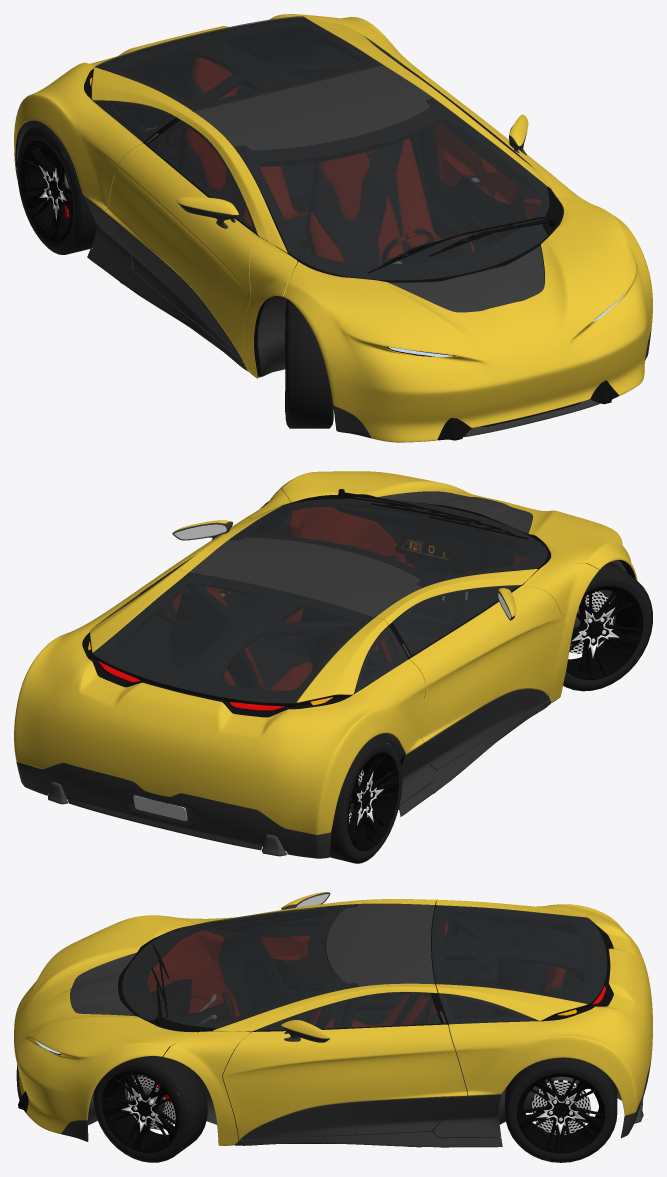
File: strale.glb
The picture shows the model from 3 angles, top to bottom: view 1: azimuth 30°, elevation 25°; view 2: azimuth 150°, elevation 25°; view 3: azimuth 270°, elevation 25°; orthographic projection. The views are drawn at different scales.
Visible parts, largest first — view 1: BodyHood, BodyWindshield, BodyRearwindow, BodyDoorRColor1, BodyRearPanelsColor1, BodyRoofPanel, BodyWindshieldGasket, InteriorSeatsColor1, InteriorSeatsColor2, BodyPillars, InteriorPillar, InteriorRearHatch (+21 smaller); view 2: BodyRearPanelsColor1, BodyRearwindow, BodyWindshield, BodyDoorRColor1, BodyPanelsColor2, BodyRoofPanel, BodyHood, InteriorRearHatch, BodyPillars, InteriorPillar, InteriorDashMid, WheelFrontRRim (+22 smaller); view 3: BodyWindshield, BodyRearPanelsColor1, BodyDoorLColor1, BodyHood, BodyRearwindow, BodyRoofPanel, BodyPillars, BodyWindshieldGasket, BodyDoorLColor2, BodyPanelsColor2, Wheel_02_LF_19, WheelRearLRim (+25 smaller).
Boxes of the visible parts, x1=… form: BodyHood: x1=283, y1=198, x2=652, y2=442; BodyWindshield: x1=234, y1=98, x2=549, y2=280; BodyRearwindow: x1=94, y1=16, x2=382, y2=111; BodyDoorRColor1: x1=104, y1=143, x2=257, y2=362; BodyRearPanelsColor1: x1=14, y1=14, x2=428, y2=210; BodyRoofPanel: x1=193, y1=65, x2=432, y2=150; BodyWindshieldGasket: x1=234, y1=99, x2=563, y2=282; InteriorSeatsColor1: x1=185, y1=57, x2=474, y2=263; InteriorSeatsColor2: x1=180, y1=78, x2=471, y2=264; BodyPillars: x1=176, y1=61, x2=598, y2=378; InteriorPillar: x1=158, y1=37, x2=434, y2=168; InteriorRearHatch: x1=93, y1=17, x2=383, y2=117; BodyRearPanelsColor1: x1=14, y1=569, x2=425, y2=834; BodyRearwindow: x1=92, y1=572, x2=373, y2=703; BodyWindshield: x1=229, y1=497, x2=547, y2=587; BodyDoorRColor1: x1=409, y1=585, x2=562, y2=742; BodyPanelsColor2: x1=16, y1=700, x2=550, y2=858; BodyRoofPanel: x1=189, y1=537, x2=422, y2=617; BodyHood: x1=279, y1=471, x2=637, y2=580; InteriorRearHatch: x1=93, y1=573, x2=386, y2=707; BodyPillars: x1=175, y1=489, x2=599, y2=702; InteriorPillar: x1=174, y1=574, x2=417, y2=682; InteriorDashMid: x1=332, y1=503, x2=528, y2=622; WheelFrontRRim: x1=566, y1=585, x2=643, y2=679; BodyWindshield: x1=122, y1=904, x2=358, y2=1028; BodyRearPanelsColor1: x1=436, y1=899, x2=652, y2=1115; BodyDoorLColor1: x1=222, y1=1024, x2=467, y2=1139; BodyHood: x1=14, y1=915, x2=196, y2=1133; BodyRearwindow: x1=431, y1=905, x2=607, y2=1004; BodyRoofPanel: x1=326, y1=903, x2=434, y2=986; BodyPillars: x1=163, y1=899, x2=437, y2=1145; BodyWindshieldGasket: x1=118, y1=905, x2=357, y2=1032; BodyDoorLColor2: x1=240, y1=1096, x2=467, y2=1140; BodyPanelsColor2: x1=16, y1=1050, x2=652, y2=1147; Wheel_02_LF_19: x1=93, y1=1054, x2=207, y2=1162; WheelRearLRim: x1=517, y1=1073, x2=605, y2=1153.
Bounding box in the file's own units: 2.54 × 1.15 × 4.36.
23 materials, 3 textured.
